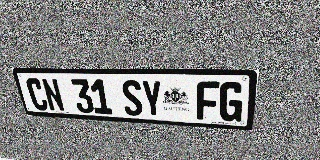1: (88, 79, 112, 114)
3: (70, 79, 95, 113)
C: (25, 78, 50, 111)
F: (197, 81, 220, 120)
G: (219, 82, 245, 122)
N: (41, 78, 66, 112)
S: (120, 80, 144, 116)
Y: (141, 80, 163, 117)
